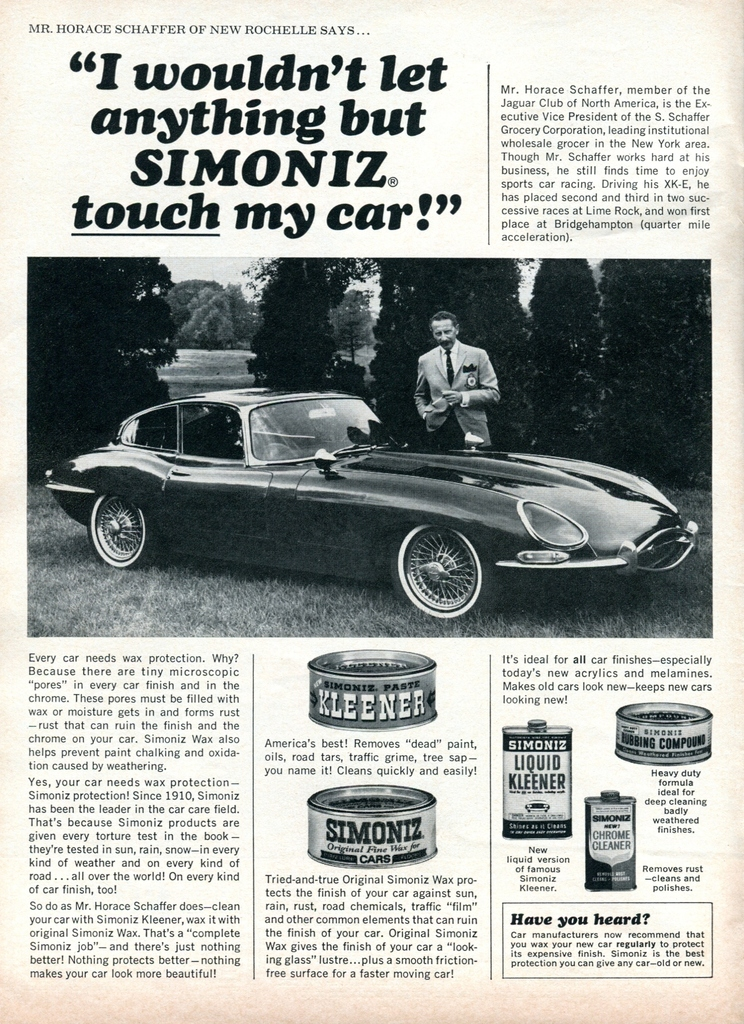cars: (29, 383, 698, 619)
